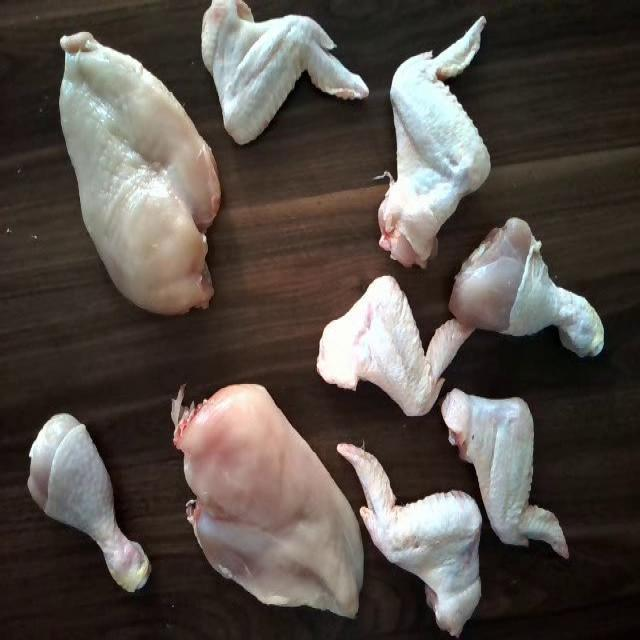breast: (43, 31, 220, 318), (174, 379, 364, 618)
leg: (16, 410, 154, 601), (446, 218, 609, 366)
wing: (368, 10, 494, 267), (330, 433, 484, 632), (428, 388, 576, 574), (198, 6, 366, 146), (302, 273, 474, 408)
